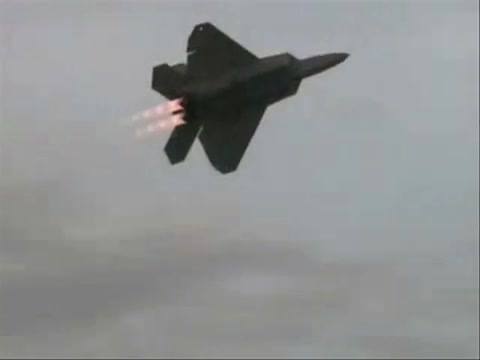aeroplane: (152, 23, 352, 178)
